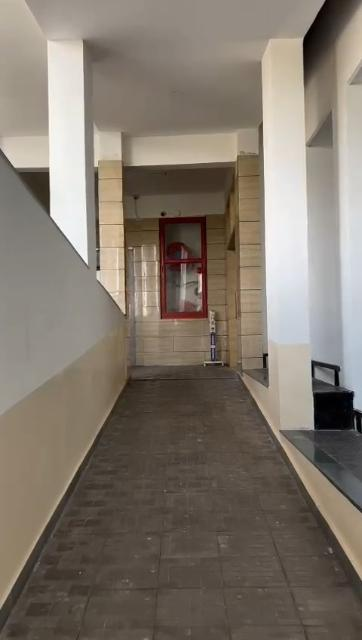floor: (2, 364, 362, 640)
wall: (0, 154, 126, 607), (52, 48, 127, 388), (256, 38, 308, 428), (131, 221, 157, 361), (156, 318, 204, 364), (207, 216, 226, 308)
